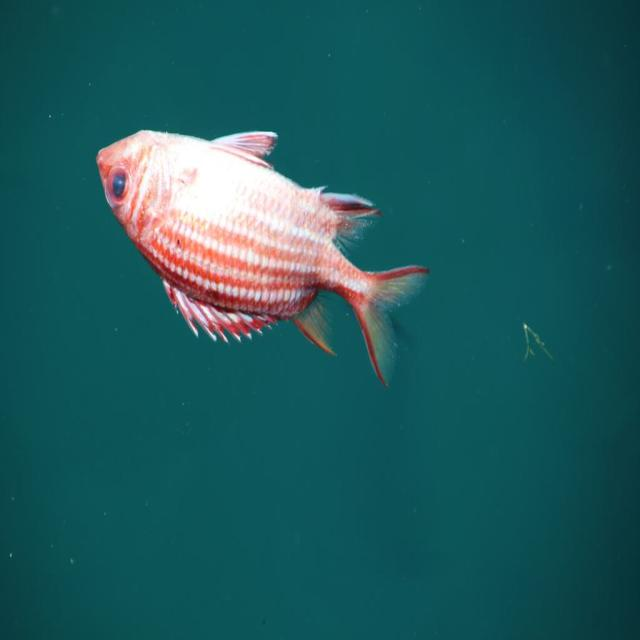Asker Baligi: (94, 124, 430, 388)
